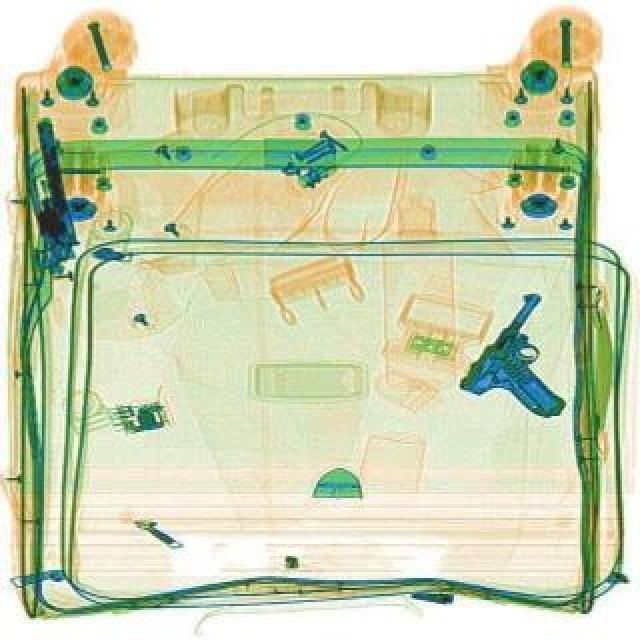gun: (452, 286, 614, 440), (30, 112, 78, 248)
